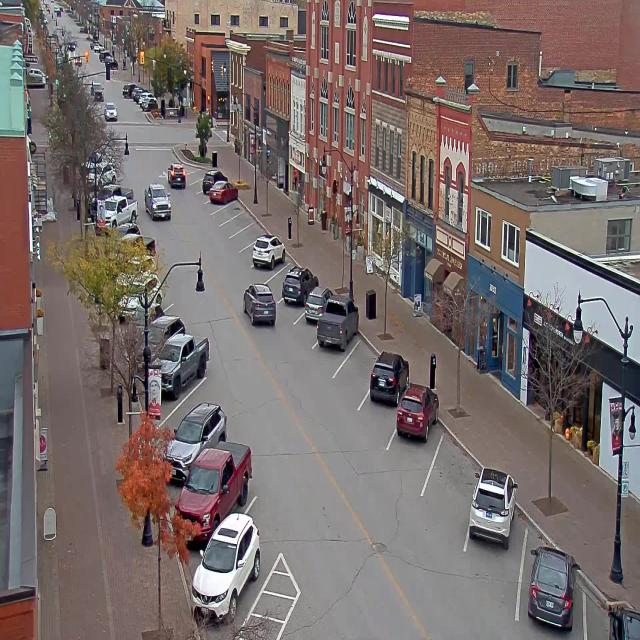available: (429, 429, 482, 512), (339, 332, 379, 393), (173, 370, 226, 409), (265, 261, 291, 296), (236, 239, 257, 269), (228, 225, 251, 252), (222, 217, 240, 240), (184, 166, 206, 184), (212, 206, 228, 228), (185, 178, 203, 195)
occupied: (191, 511, 261, 624), (179, 433, 255, 516), (164, 400, 228, 484), (527, 544, 579, 630), (468, 466, 517, 547), (152, 331, 210, 398), (392, 385, 438, 447), (591, 586, 639, 640), (316, 296, 358, 352), (369, 350, 409, 406), (282, 265, 318, 304), (252, 232, 285, 269), (302, 285, 327, 326), (209, 179, 237, 204), (201, 164, 223, 190)
